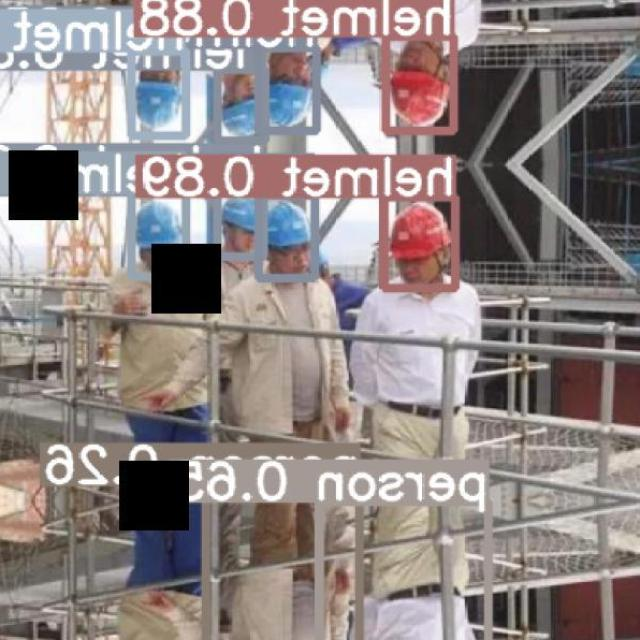helmet: (390, 201, 452, 260), (136, 200, 184, 248)
